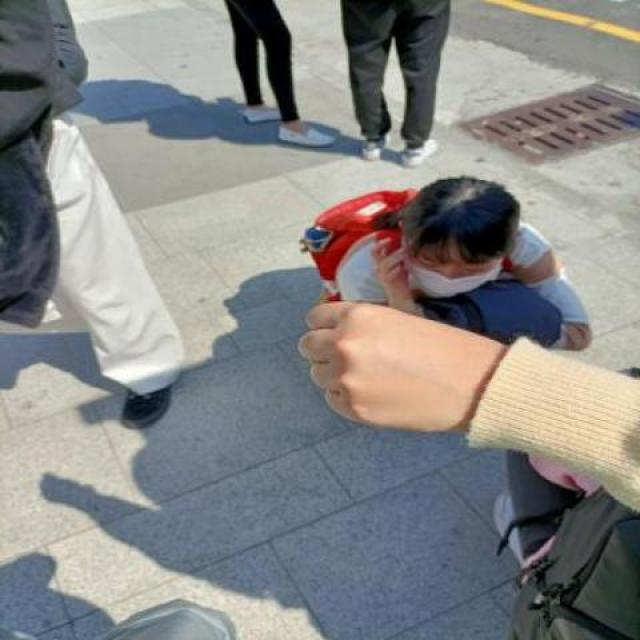Closed Hand: (293, 294, 507, 443)
